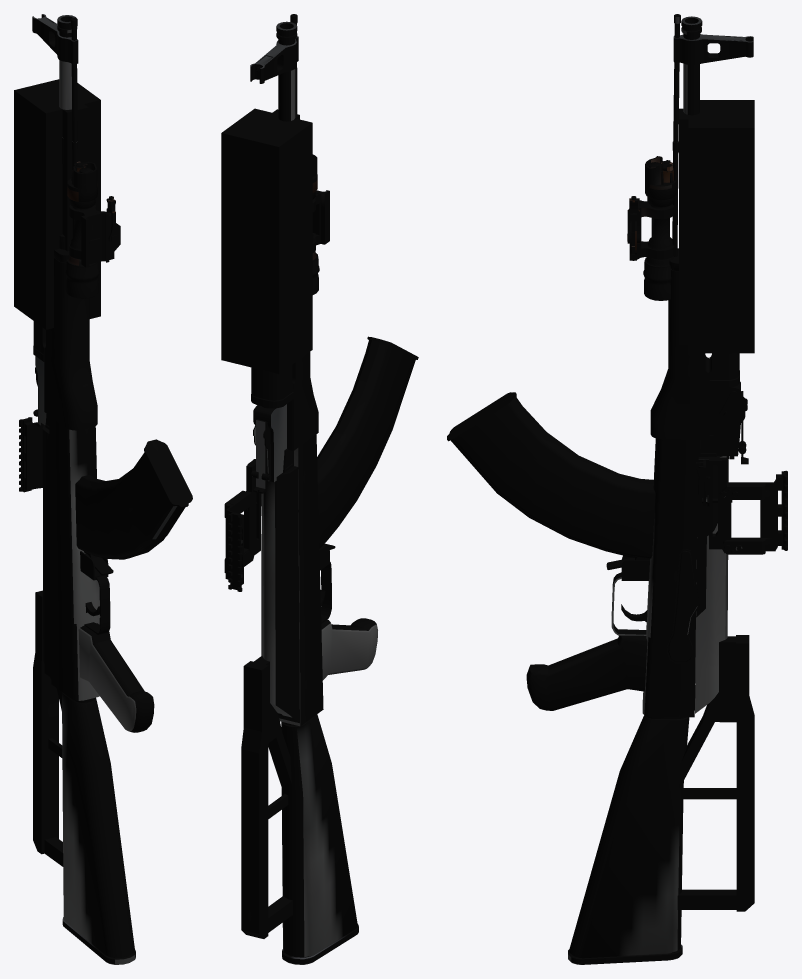
Rendered from AK47__Handguard_AK_Quad__Light_Weapon__Mount_AK_SideRail__Stock_AK_Folding.fbx.
3 views of the same model, side by side, from view 1: azimuth 30°, elevation 25°; view 2: azimuth 150°, elevation 25°; view 3: azimuth 270°, elevation 25° (orthographic). The views are drawn at different scales.
Parts seen in each view (by area): view 1: asset_AK47.001; view 2: asset_AK47.001; view 3: asset_AK47.001.
Part boxes in pixels (bbox=[...]): asset_AK47.001: bbox=[14, 14, 192, 964]; asset_AK47.001: bbox=[221, 14, 418, 964]; asset_AK47.001: bbox=[447, 14, 787, 964].
Size of the model in its own units: 0.0336 by 0.528 by 0.173.
